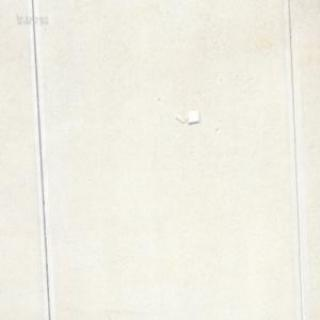LuggageTagtrack_idkeyframe: (174, 108, 199, 125)
